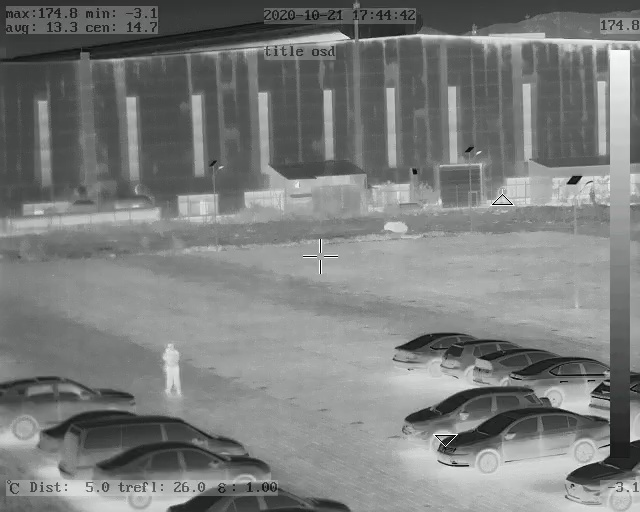person: (161, 341, 183, 399)
vehicle: (51, 418, 251, 479), (94, 443, 278, 505), (448, 409, 613, 471), (1, 375, 136, 438), (411, 385, 531, 439), (502, 355, 611, 405), (566, 442, 638, 510), (168, 488, 351, 512), (468, 346, 544, 385), (392, 331, 463, 370), (442, 337, 504, 379)
